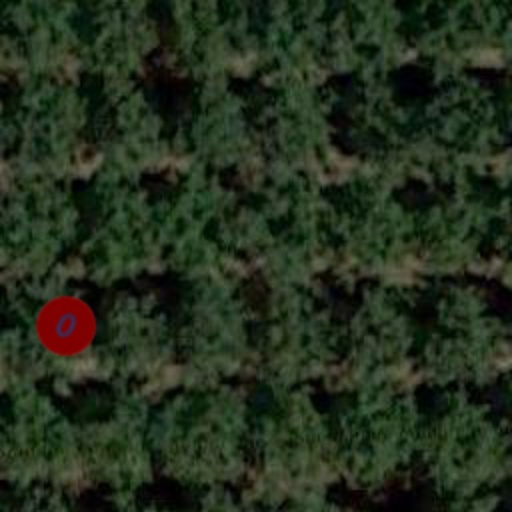circle: (30, 290, 102, 362)
